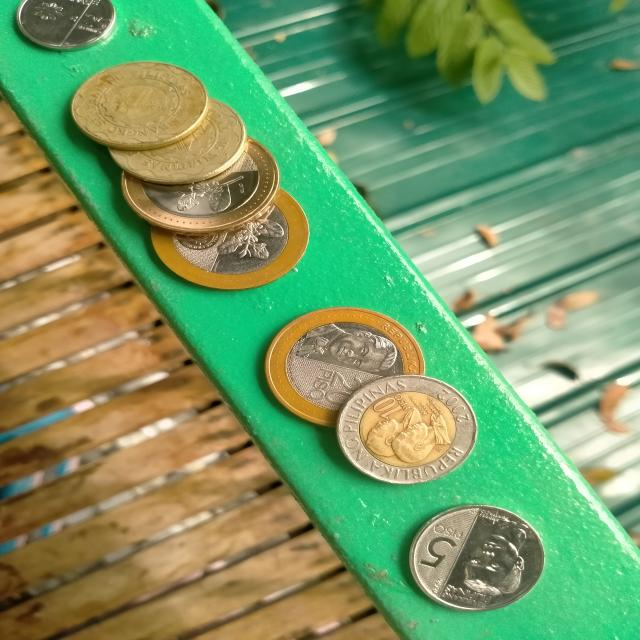10_Old_Front: (338, 376, 479, 488)
20_New_Back: (286, 364, 381, 408)
5_New_Front: (413, 521, 479, 573)
5_Old_Back: (70, 62, 203, 149), (122, 106, 239, 179)
